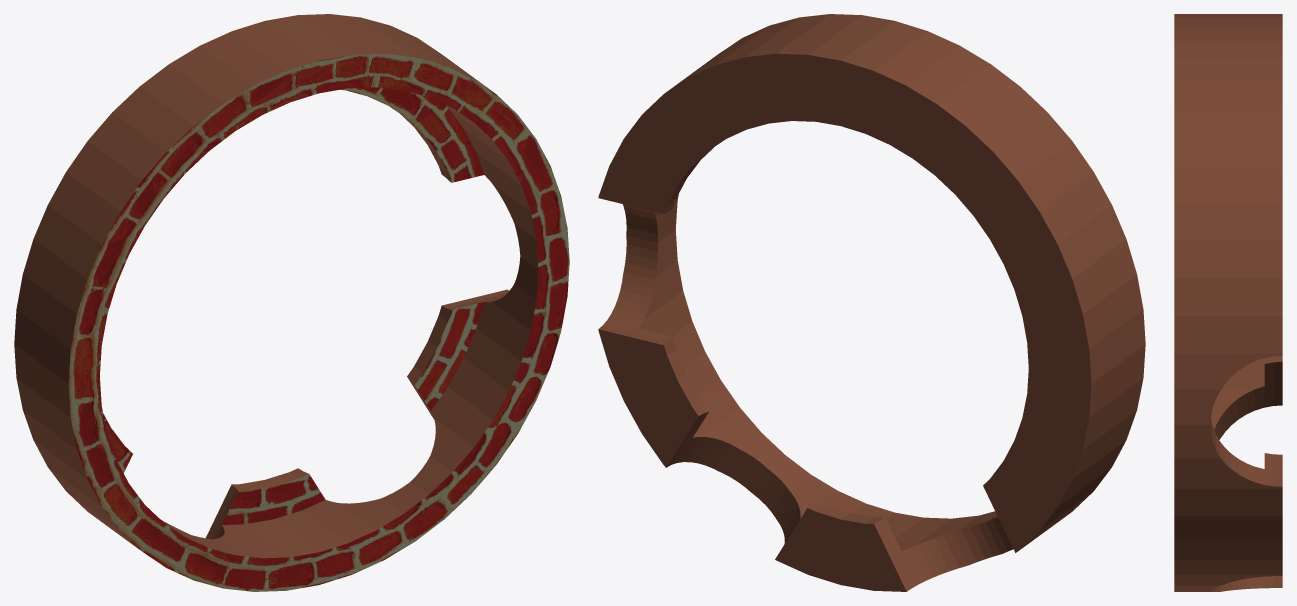
Rendered from pool_060.obj.
3 views of the same model, side by side, from view 1: azimuth 30°, elevation 25°; view 2: azimuth 150°, elevation 25°; view 3: azimuth 270°, elevation 25° (orthographic).
Bounding box in the file's own units: 16 × 16 × 3.
1 material, 1 textured.
